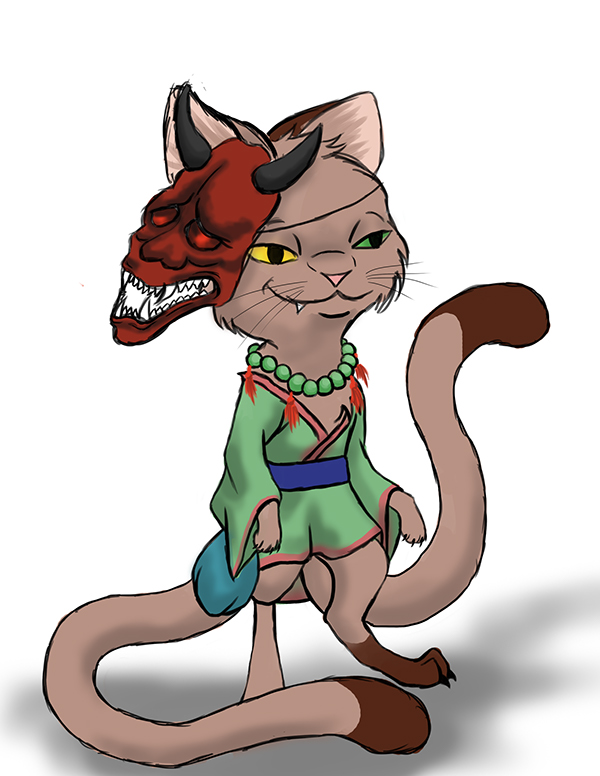cat: (36, 81, 552, 775)
